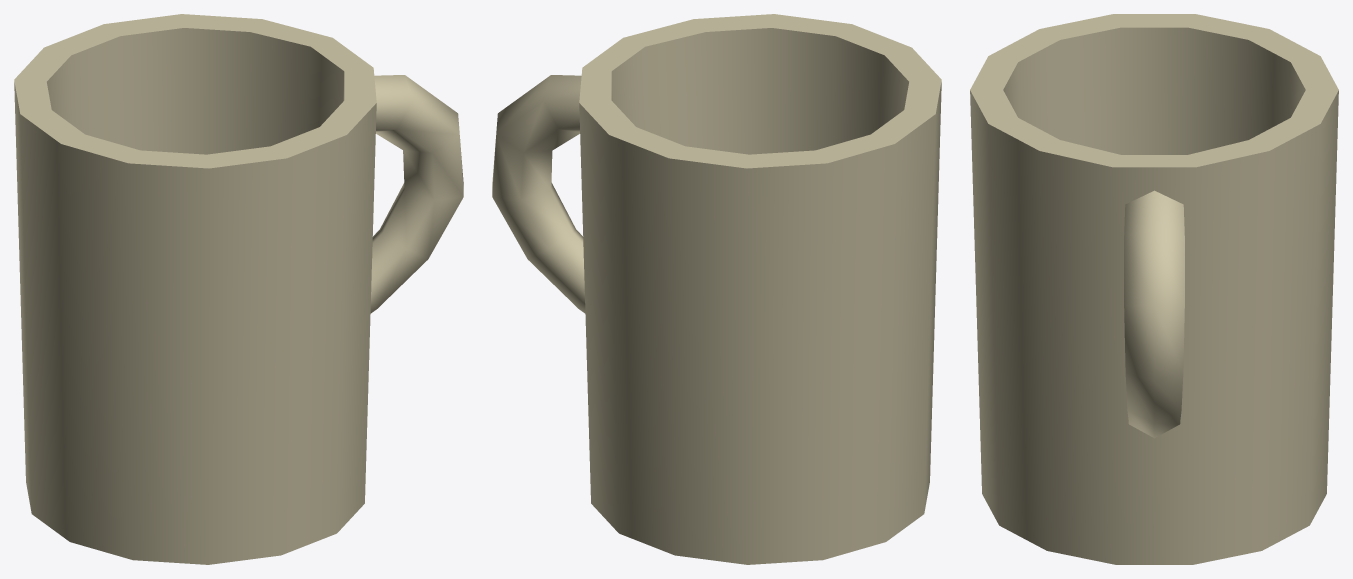
File: cup2.glb
3 views of the same model, side by side, from view 1: azimuth 30°, elevation 25°; view 2: azimuth 150°, elevation 25°; view 3: azimuth 270°, elevation 25° (orthographic).
Visible parts, largest first — view 1: cup2; view 2: cup2; view 3: cup2.
Part boxes in pixels (box(x1,y1,x2,y2)): cup2: box(14, 14, 463, 564); cup2: box(492, 14, 941, 564); cup2: box(970, 14, 1338, 564).
Size of the model in its own units: 0.1686 by 0.1529 by 0.1265.
